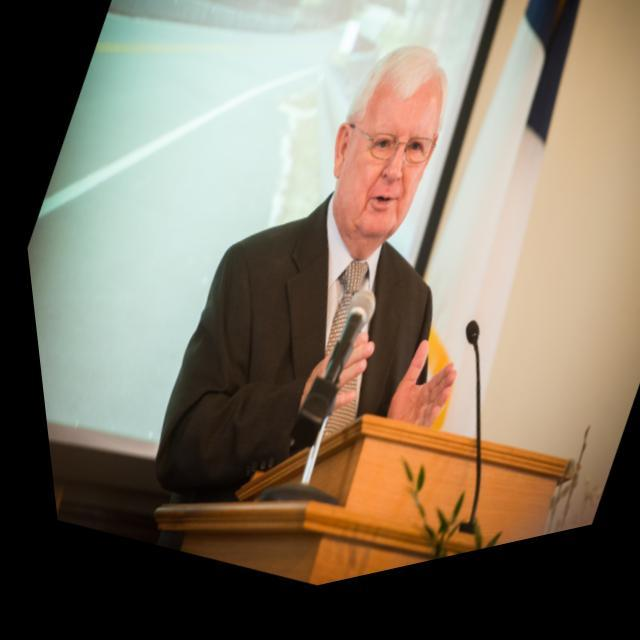Nonhelmet: (328, 42, 450, 242)
